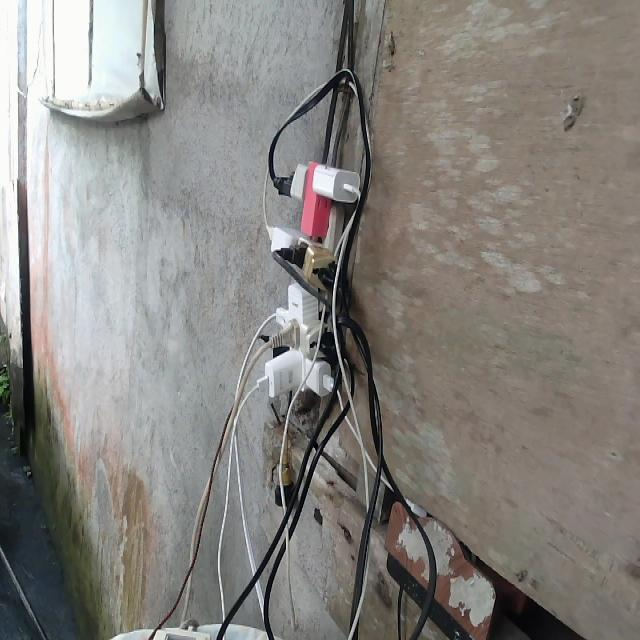-: (263, 158, 364, 402)
